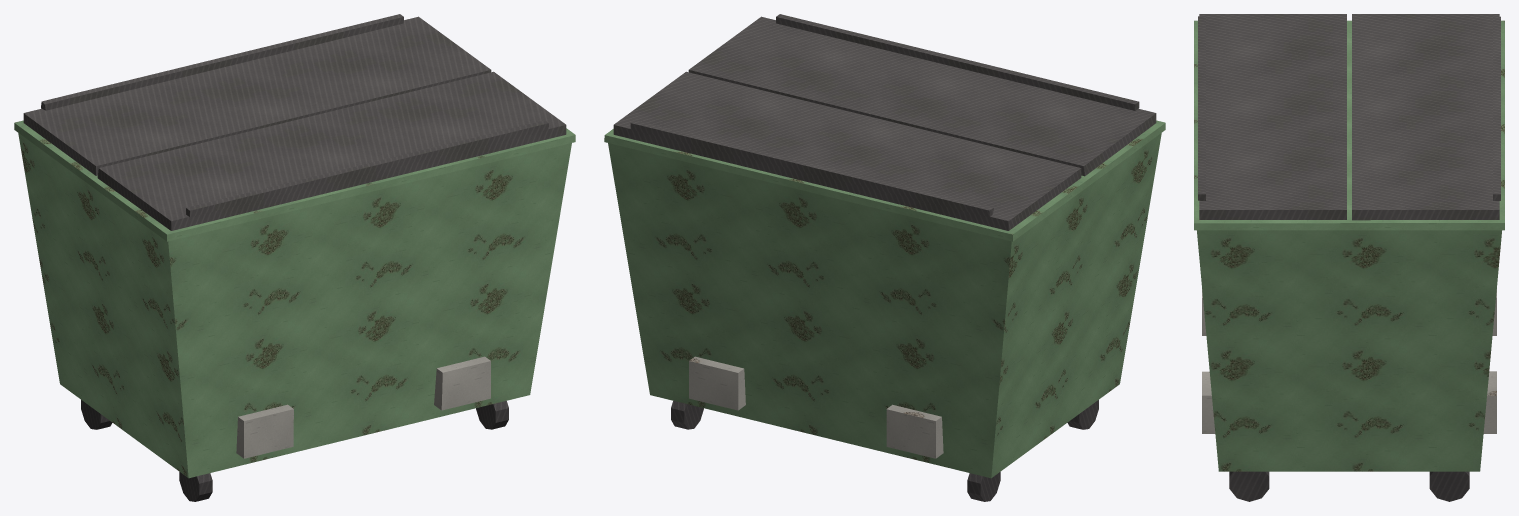
File: dumpster_v2.glb
3 renders of one model, left to right at view 1: azimuth 30°, elevation 25°; view 2: azimuth 150°, elevation 25°; view 3: azimuth 270°, elevation 25°, orthographic.
Parts seen in each view (by area): view 1: Variant_dumpster_2; view 2: Variant_dumpster_2; view 3: Variant_dumpster_2.
Boxes of the visible parts, <box> form: Variant_dumpster_2: <box>14,14,575,501</box>; Variant_dumpster_2: <box>604,14,1165,501</box>; Variant_dumpster_2: <box>1194,14,1504,501</box>.
Size of the model in its own units: 1.82 by 1.34 by 1.18.
Materials: 4 (4 with a texture image).
